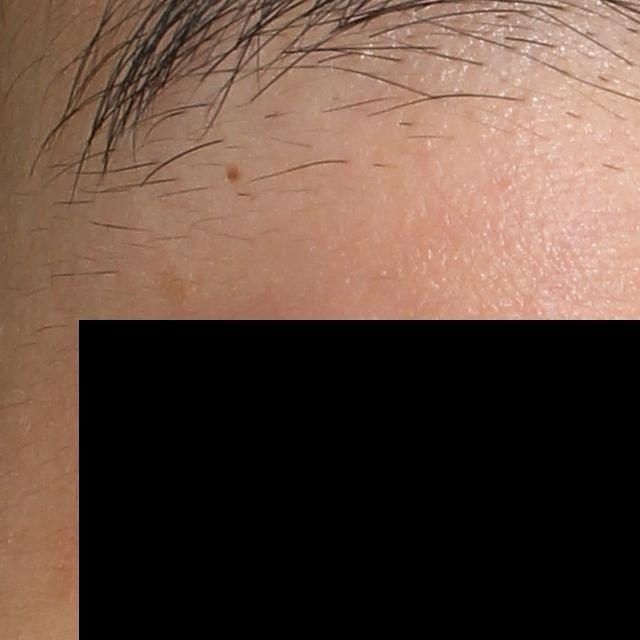nevus: (223, 159, 241, 185)
